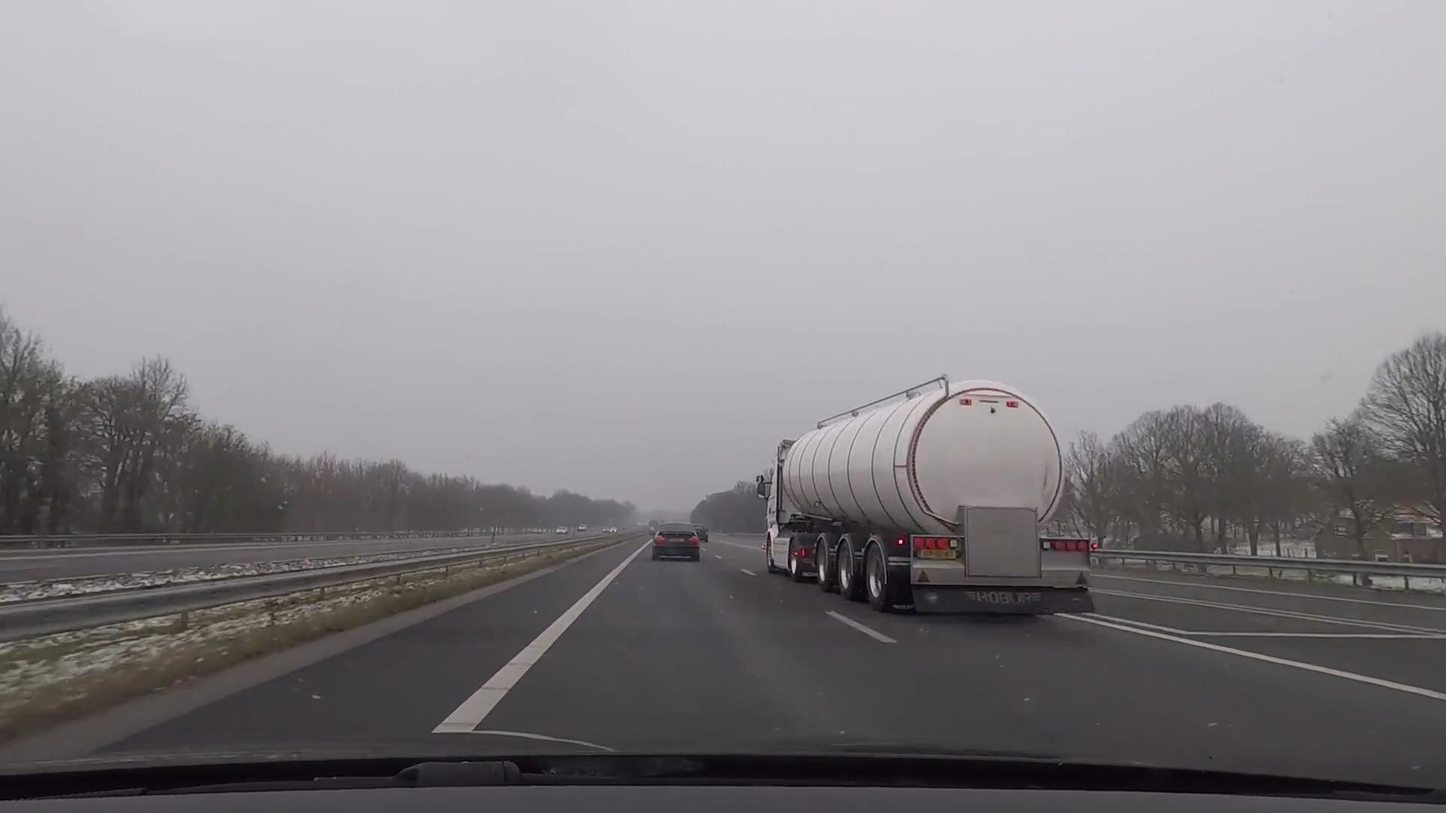Snow: (0, 562, 510, 711)
dry: (58, 526, 1446, 770)
